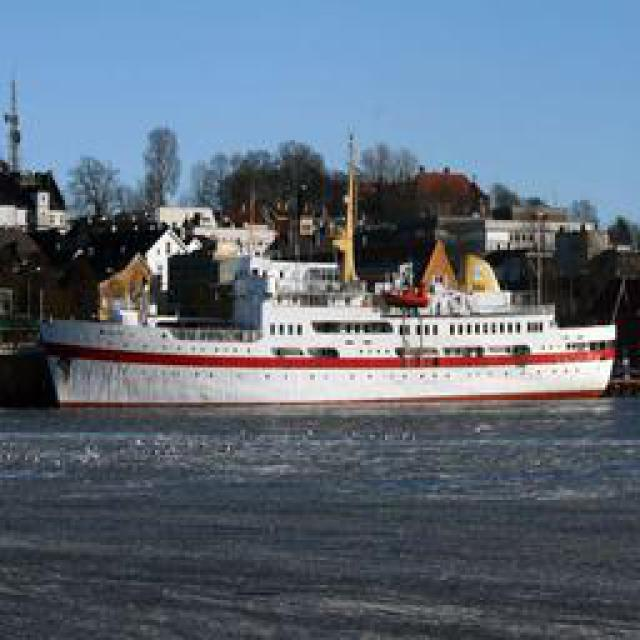Ship: (27, 244, 617, 419)
